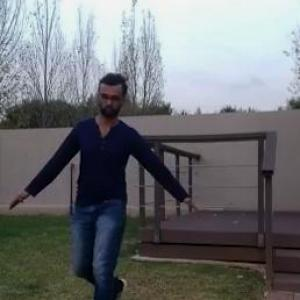land: (36, 79, 179, 299)
